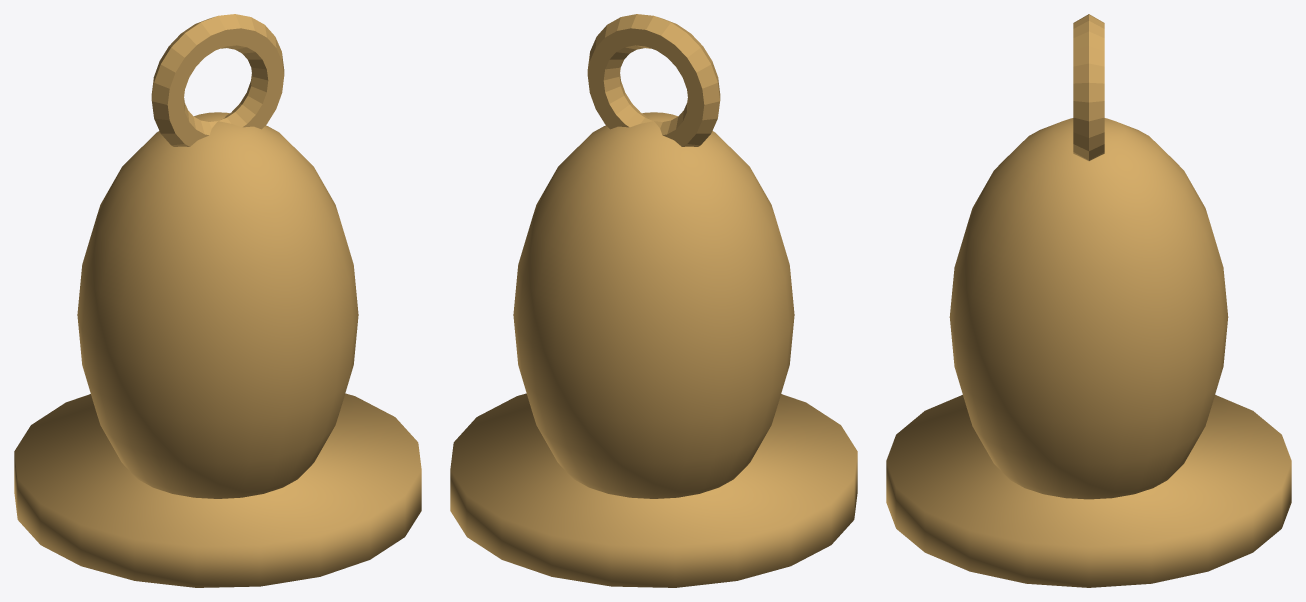
Rendered from relic-thunderBell.glb.
3 renders of one model, left to right at view 1: azimuth 30°, elevation 25°; view 2: azimuth 150°, elevation 25°; view 3: azimuth 270°, elevation 25°, orthographic.
Parts seen in each view (by area): view 1: relic-thunderBell / Brass | machined champagne; view 2: relic-thunderBell / Brass | machined champagne; view 3: relic-thunderBell / Brass | machined champagne.
Boxes of the visible parts, x1,y1,x2,y2 form: relic-thunderBell / Brass | machined champagne: (14, 14, 421, 587); relic-thunderBell / Brass | machined champagne: (450, 14, 857, 587); relic-thunderBell / Brass | machined champagne: (886, 14, 1291, 587).
Size of the model in its own units: 1.34 by 2 by 1.34.
